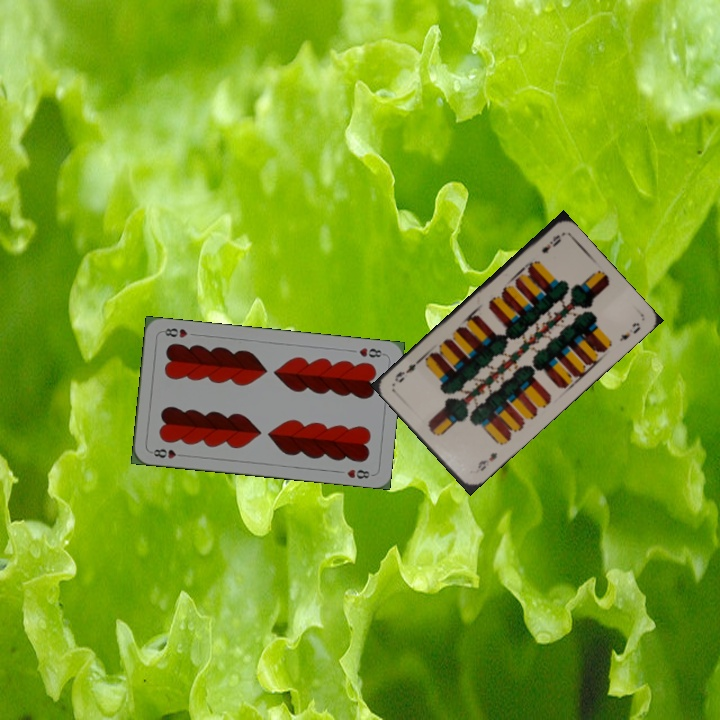E9: (537, 230, 564, 256), (473, 448, 500, 474)
H8: (147, 445, 187, 461), (355, 344, 387, 360)
